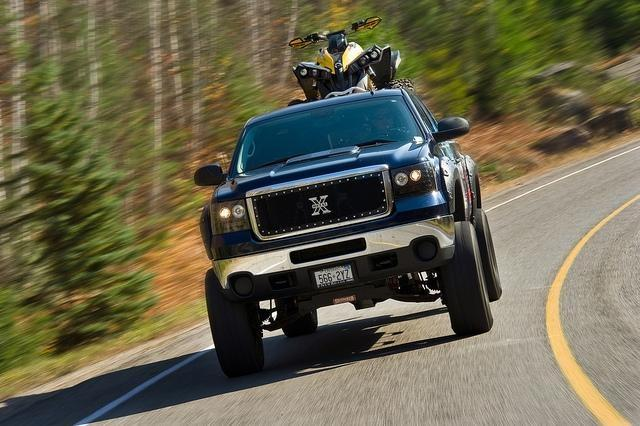motorcycle: (284, 14, 398, 102)
truck: (194, 85, 506, 376)
